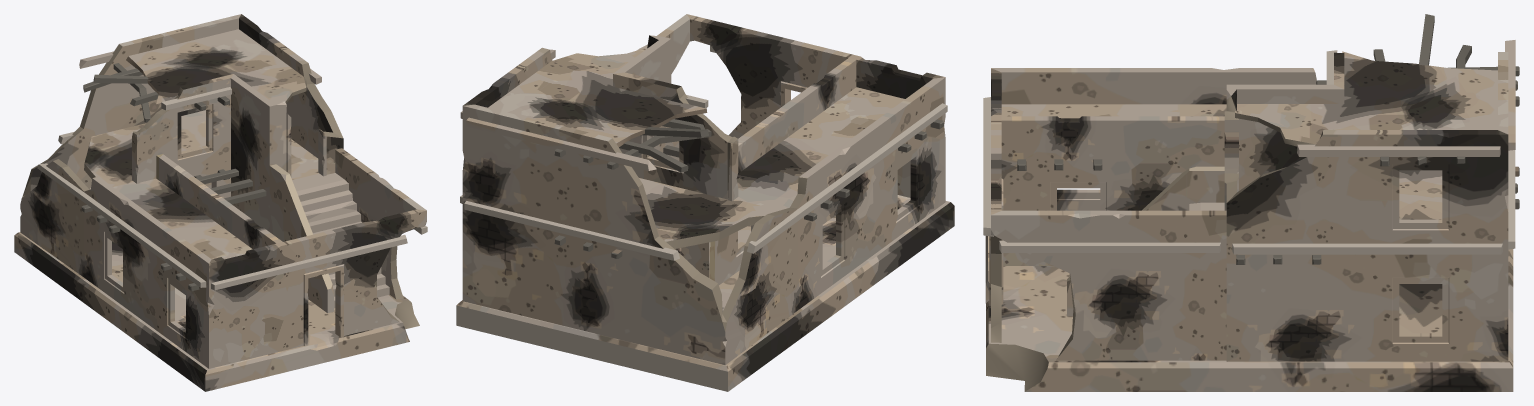
Rendered from SM_Bld_Village_House_01_Destroyed.glb.
3 renders of one model, left to right at view 1: azimuth 30°, elevation 25°; view 2: azimuth 150°, elevation 25°; view 3: azimuth 270°, elevation 25°, orthographic. The views are drawn at different scales.
Visible parts, largest first — view 1: SM_Bld_Village_House_01_Destroyed; view 2: SM_Bld_Village_House_01_Destroyed; view 3: SM_Bld_Village_House_01_Destroyed.
Part boxes in pixels (x1,y1,x2,y2): SM_Bld_Village_House_01_Destroyed: (14,14,427,391); SM_Bld_Village_House_01_Destroyed: (456,14,954,391); SM_Bld_Village_House_01_Destroyed: (983,14,1519,391).
Bounding box in the file's own units: 9.1 × 6.78 × 12.84.
Materials: 1 (1 with a texture image).
